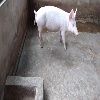heo: (30, 3, 84, 54)
